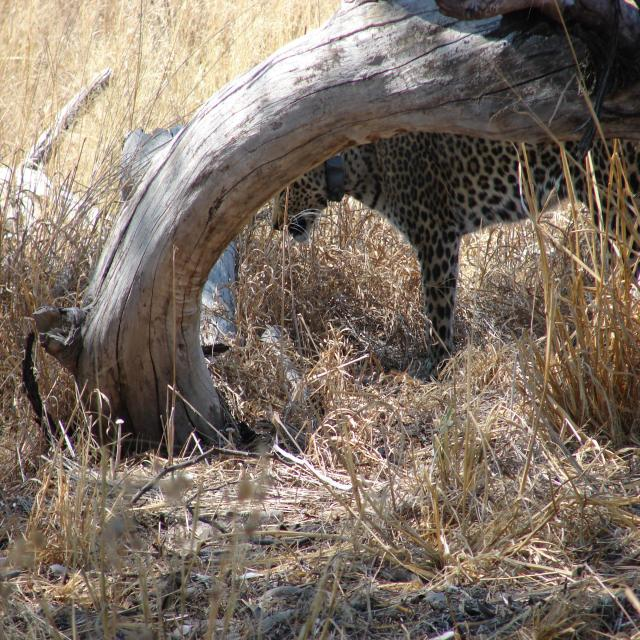Leopard: (266, 130, 635, 360)
